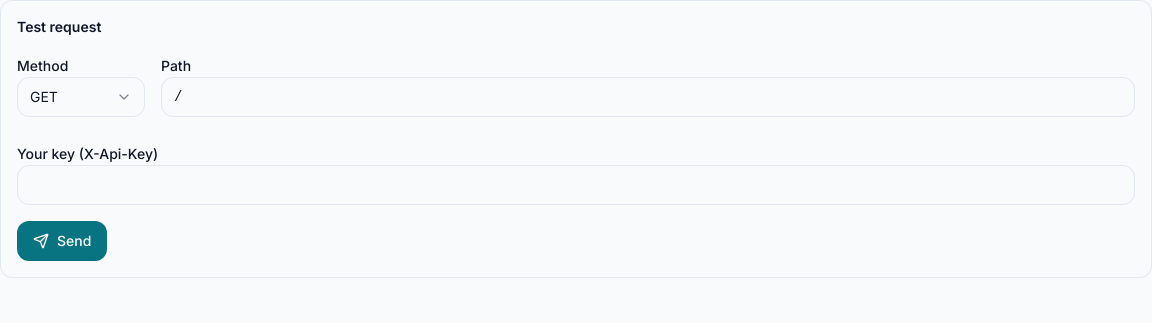
Test: TryItConsole › requires a key before sending
Replace the text in the field labelled "Path" with "/x" at (648, 97), box [161,77,1135,117]
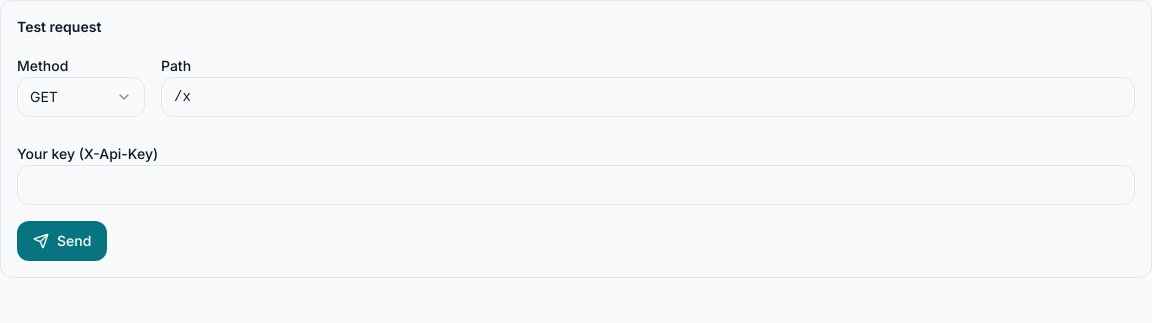
Click the button "Send" at (62, 241), box [17,221,107,261]
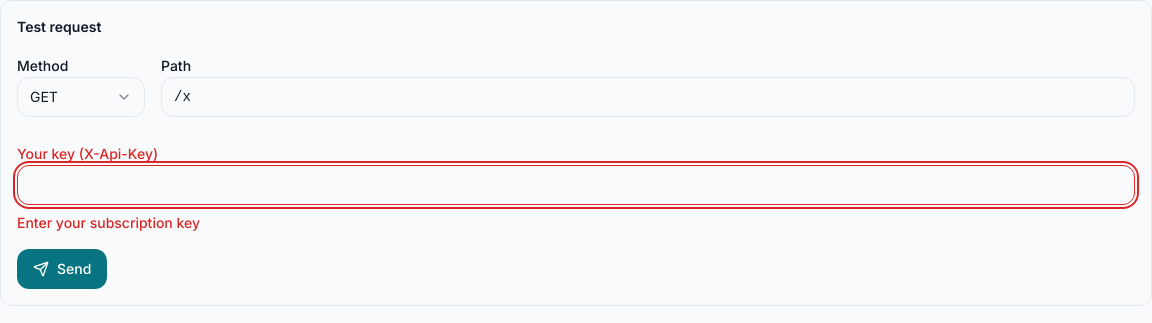
Now the text "Enter your subscription key" is shown, box [17,214,200,231]
